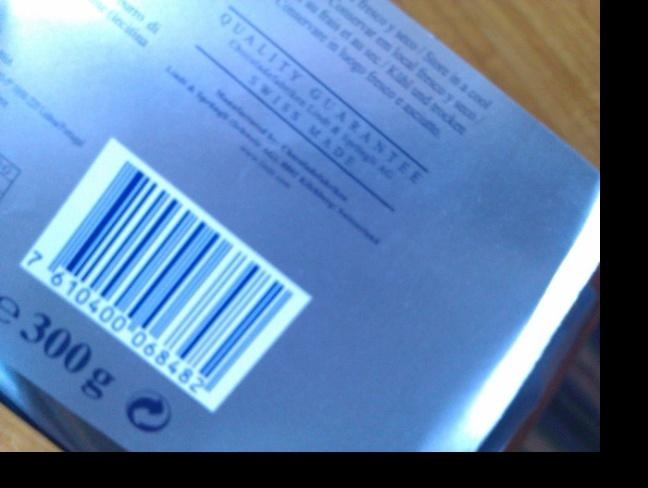Barcode: (18, 156, 300, 401)
